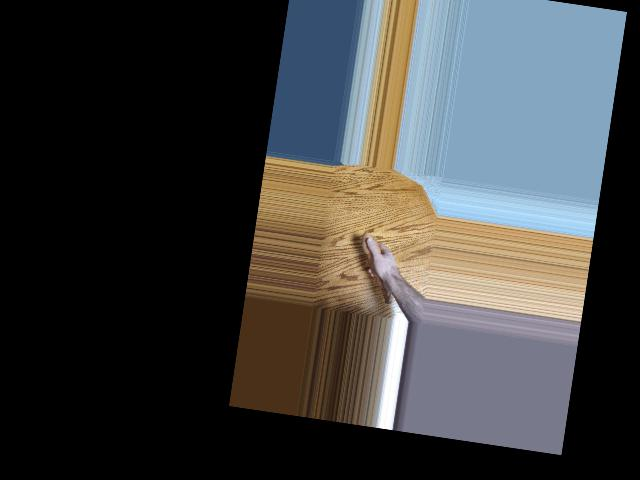sweet_potato: (350, 230, 403, 316)
